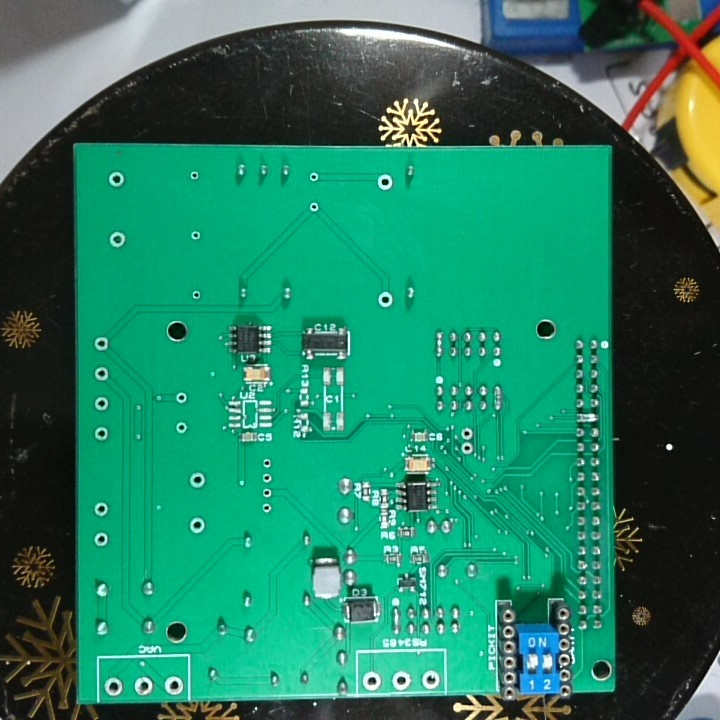F: (162, 673, 187, 698), (130, 674, 156, 698), (360, 669, 384, 692), (388, 669, 412, 691), (106, 229, 128, 252), (105, 169, 128, 190), (103, 675, 124, 698), (187, 516, 207, 538), (420, 669, 440, 691), (187, 471, 207, 492), (375, 173, 396, 192), (376, 289, 395, 310), (92, 499, 110, 520), (93, 335, 112, 354), (92, 364, 110, 383), (93, 530, 110, 550), (92, 395, 110, 413), (93, 423, 109, 442), (458, 426, 476, 441), (306, 169, 322, 184), (174, 390, 189, 406), (458, 440, 473, 456), (190, 287, 204, 302), (189, 229, 204, 243), (307, 200, 323, 213), (260, 486, 274, 500), (174, 420, 187, 435), (261, 455, 274, 469), (260, 501, 273, 514), (261, 471, 273, 485), (188, 168, 199, 183)
P: (389, 605, 404, 636), (492, 383, 505, 412), (574, 411, 599, 426), (433, 329, 444, 358)
